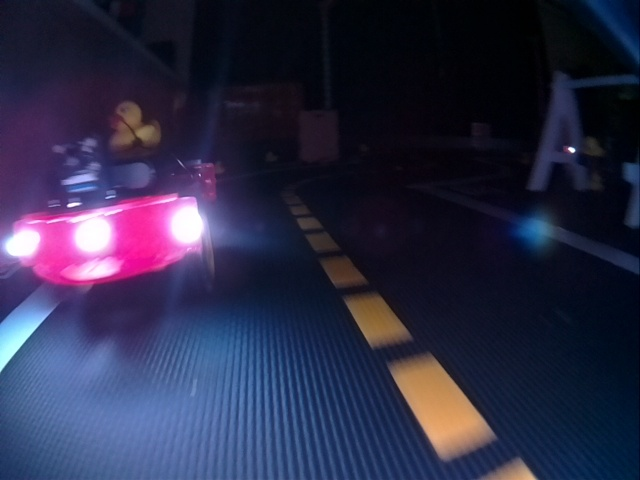Duckie: (109, 103, 159, 145)
Duckiebot: (8, 135, 219, 303)
